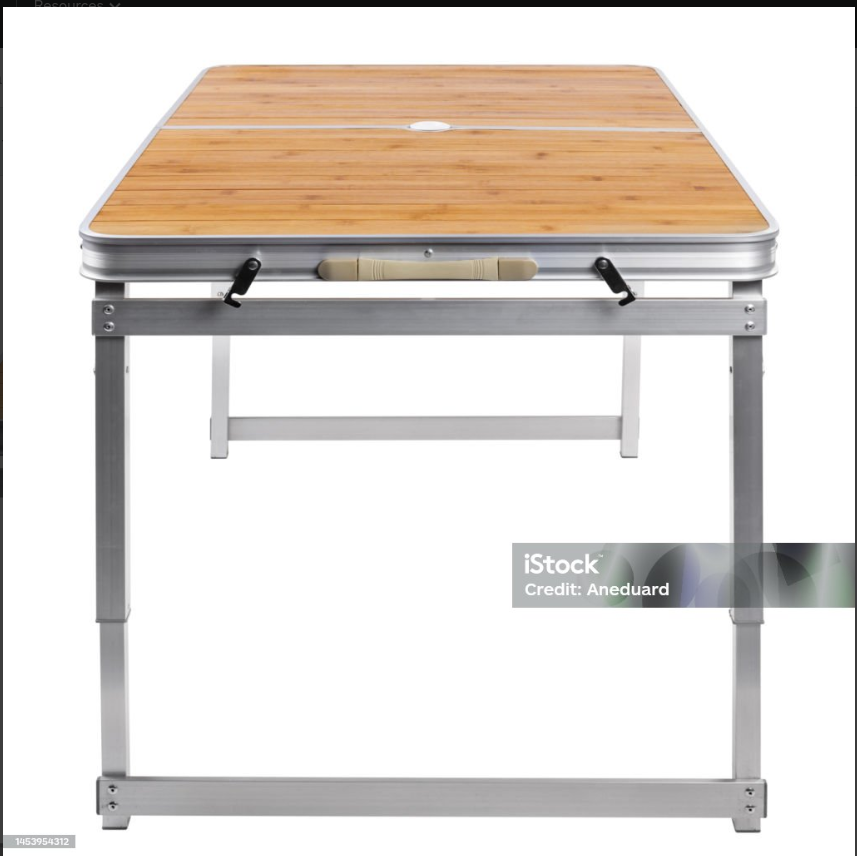obstacle: (75, 59, 774, 837)
